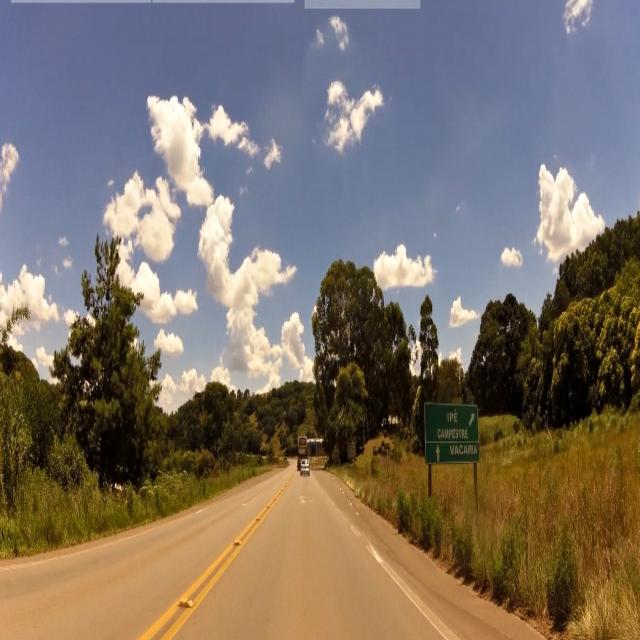I-4: (424, 409, 480, 459)
